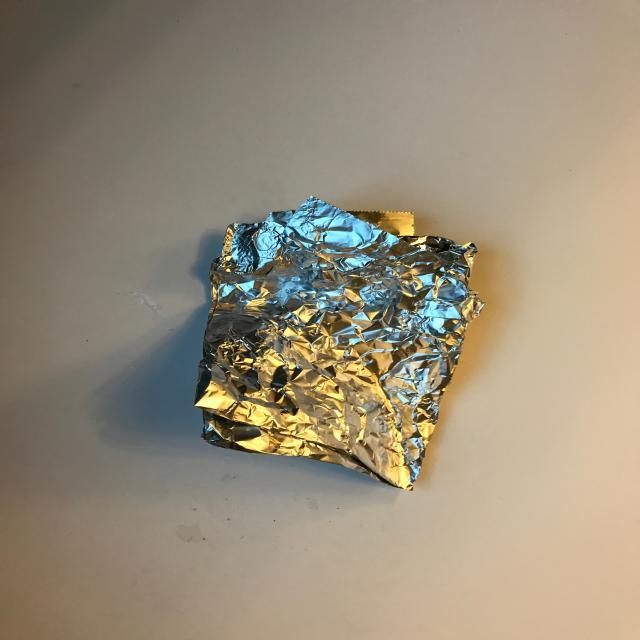metal: (193, 193, 487, 492)
